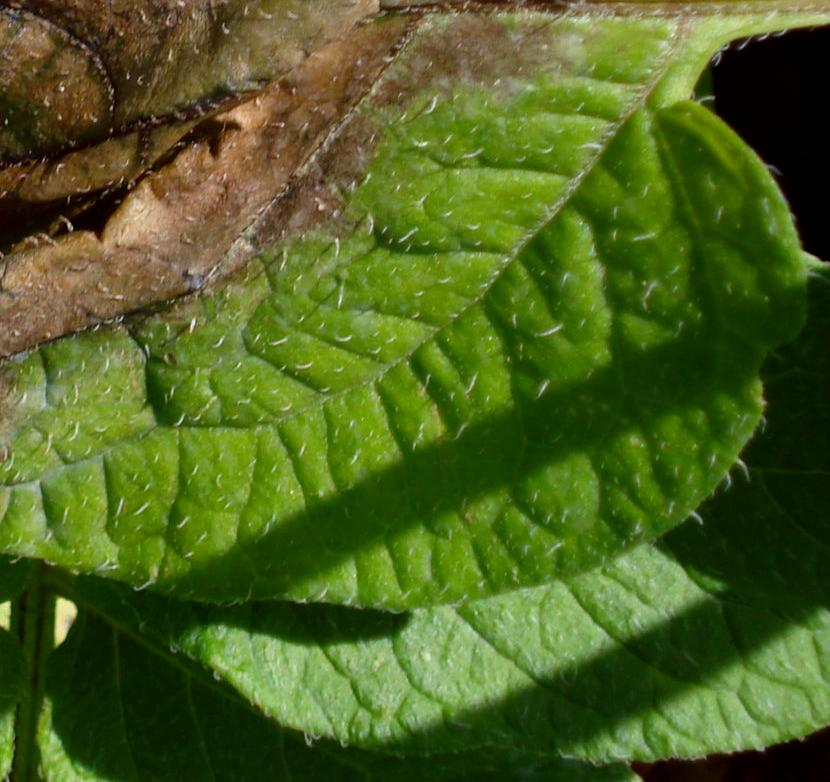Tomato leaf late blight: (0, 0, 830, 640)
